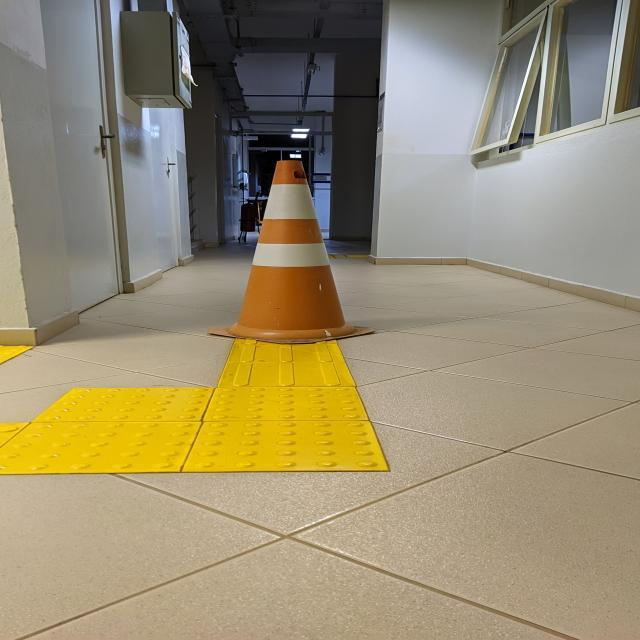Cone: (202, 156, 384, 349)
